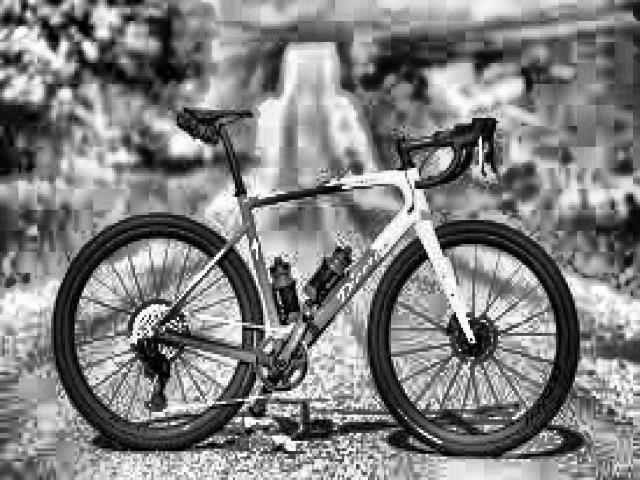cassette: (131, 302, 187, 364)
cranks_set: (255, 311, 311, 393)
rear_derailleur: (131, 336, 174, 413)
saddle: (178, 101, 255, 125)
sti_shifter: (478, 116, 499, 180)
wheel: (367, 220, 584, 457), (51, 213, 264, 452)
